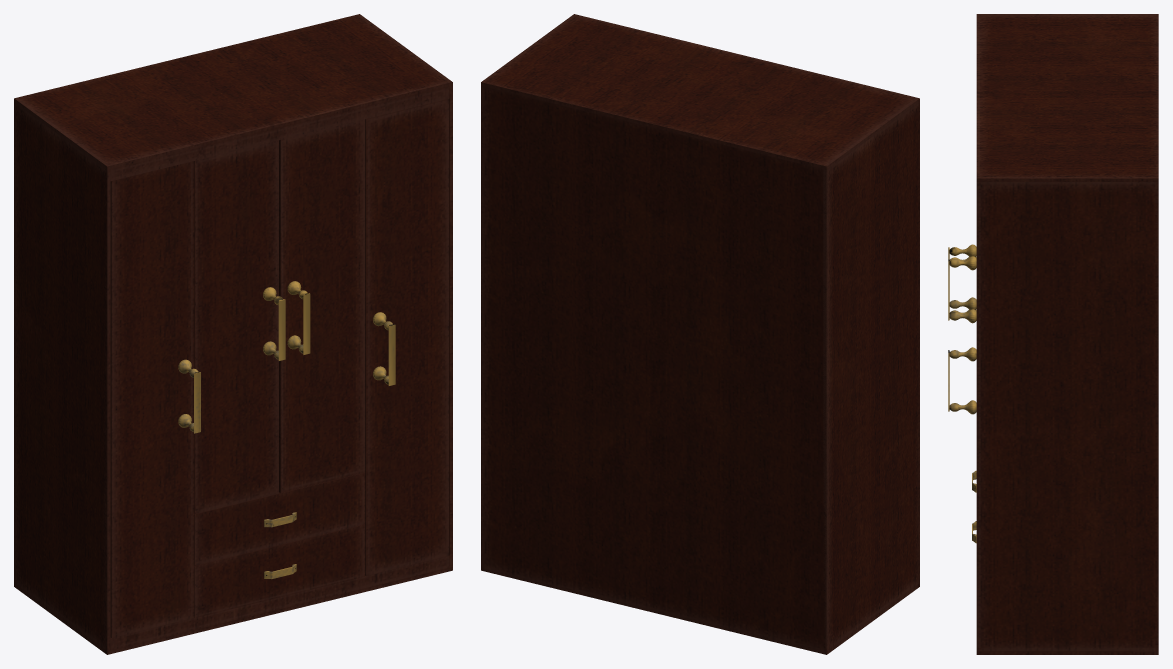
File: Four_door_wardrobe.obj
3 renders of one model, left to right at view 1: azimuth 30°, elevation 25°; view 2: azimuth 150°, elevation 25°; view 3: azimuth 270°, elevation 25°, orthographic. The views are drawn at different scales.
Visible parts, largest first — view 1: Four_door_wardrobe_mesh, Four_door_wardrobe_handles; view 2: Four_door_wardrobe_mesh; view 3: Four_door_wardrobe_mesh, Four_door_wardrobe_handles.
Boxes of the visible parts, x1=… form: Four_door_wardrobe_mesh: x1=14, y1=14, x2=452, y2=654; Four_door_wardrobe_handles: x1=178, y1=281, x2=395, y2=579; Four_door_wardrobe_mesh: x1=481, y1=14, x2=919, y2=654; Four_door_wardrobe_mesh: x1=976, y1=14, x2=1158, y2=654; Four_door_wardrobe_handles: x1=948, y1=244, x2=976, y2=543.
Size of the model in its own units: 150 by 202 by 80.93.
